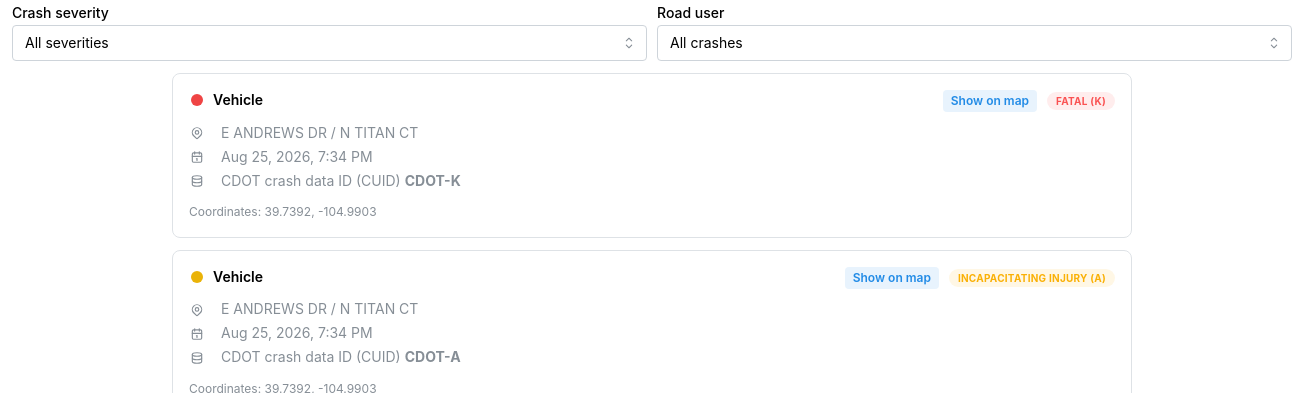
it: CrashList filters › filters the list to Fatal (K) crashes
Click the field labelled "Crash severity" at x=330, y=43, box [12,25,647,61]
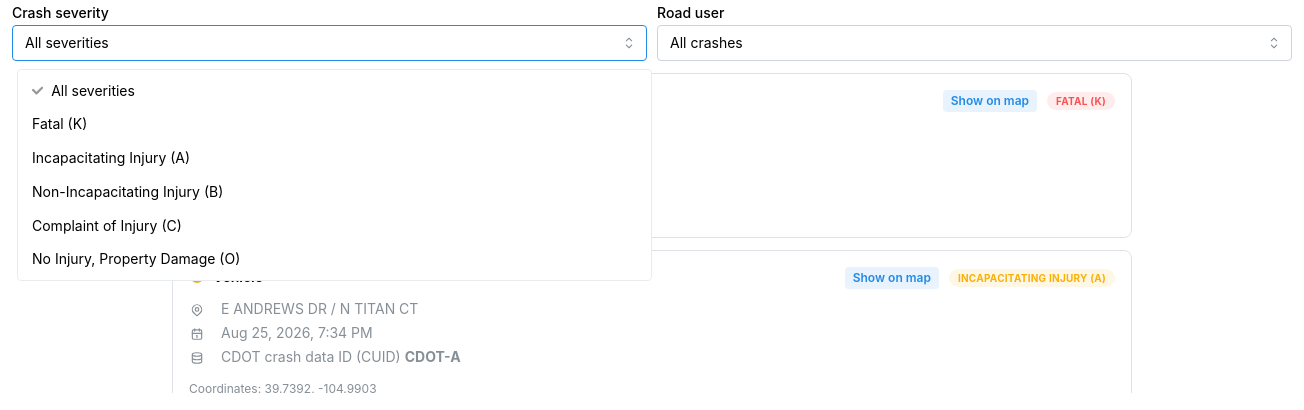
Click the option "Fatal (K)" at x=60, y=124, box [32,116,87,132]
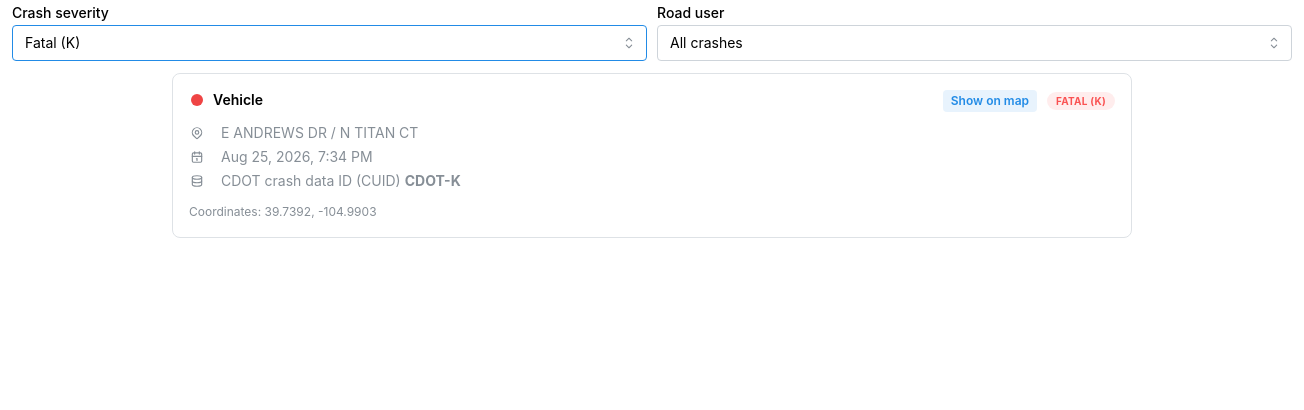
Expected: the text "CDOT-K" is shown, [405,172,461,189]
Result: the text "CDOT-A" is gone
